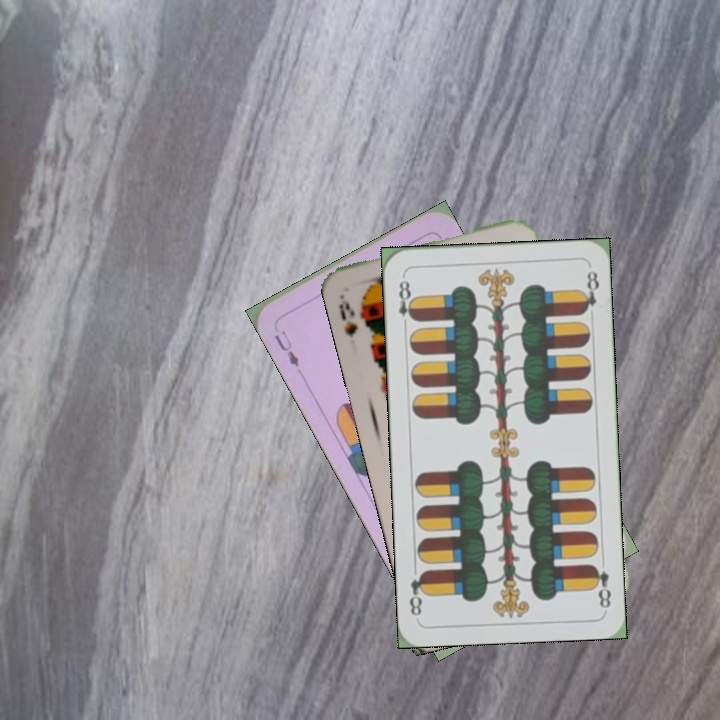E8: (395, 272, 418, 331), (588, 561, 614, 611)
EU: (270, 326, 302, 370)
S8: (334, 290, 361, 340)
